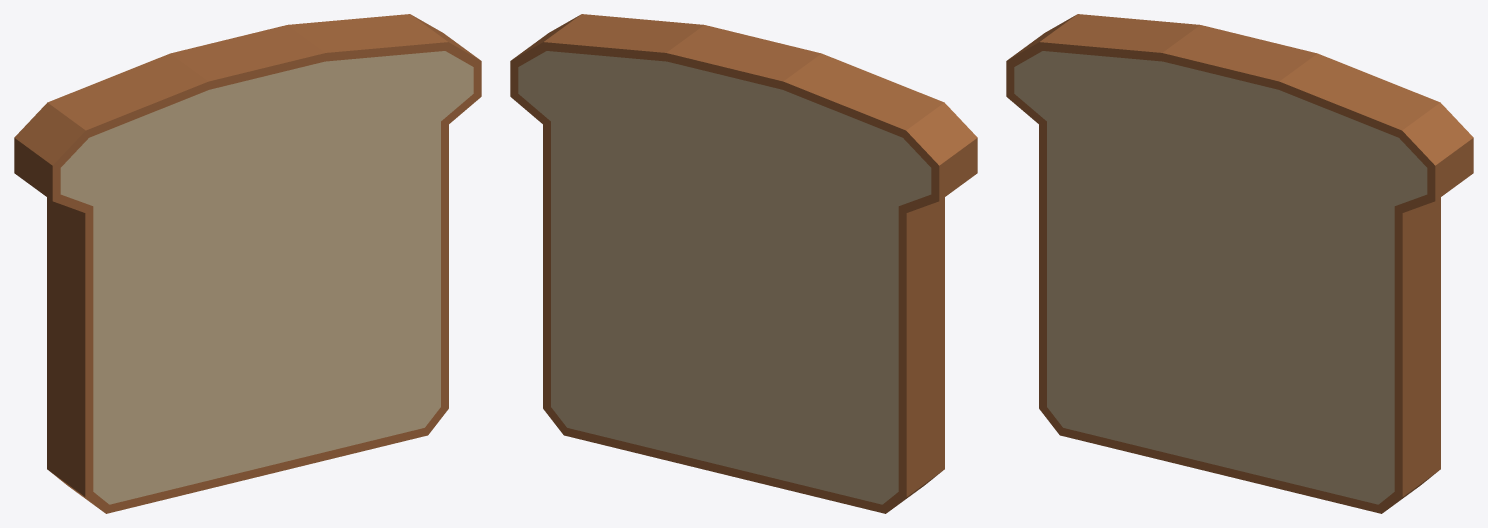
The model's file is BreadSlice.fbx.
The picture shows the model from 3 angles, left to right: view 1: azimuth 30°, elevation 25°; view 2: azimuth 150°, elevation 25°; view 3: azimuth 330°, elevation 25°; orthographic projection.
Visible parts, largest first — view 1: Cube.005, Cube.004; view 2: Cube.005, Cube.004; view 3: Cube.005, Cube.004.
Boxes of the visible parts, box(x1,y1,x2,y2) form: Cube.005: box(60, 51, 473, 504); Cube.004: box(14, 14, 481, 513); Cube.005: box(518, 51, 931, 504); Cube.004: box(510, 14, 977, 513); Cube.005: box(1014, 51, 1427, 504); Cube.004: box(1006, 14, 1473, 513).
Bounding box in the file's own units: 35.81 × 32.5 × 5.55.
